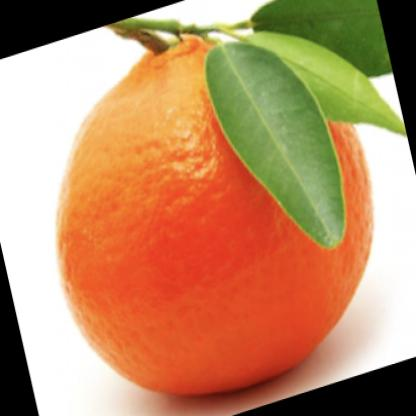orange: (53, 24, 383, 400)
